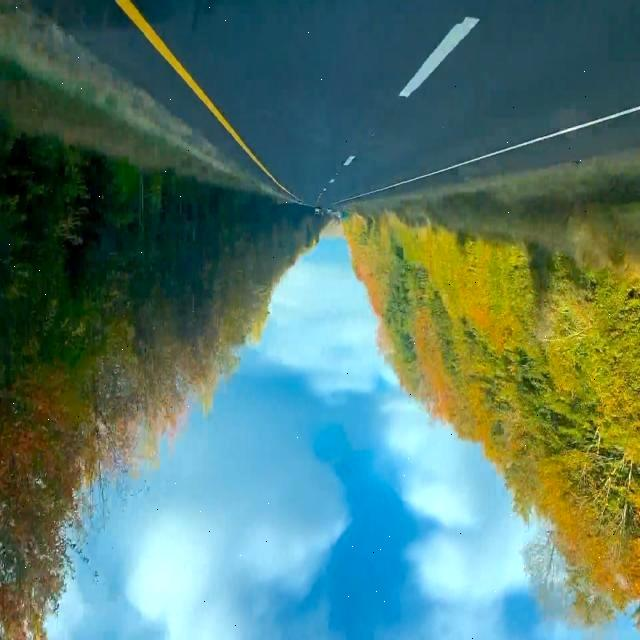lane: (115, 1, 292, 196), (346, 109, 638, 201), (399, 16, 480, 98)
road: (135, 1, 639, 207)
